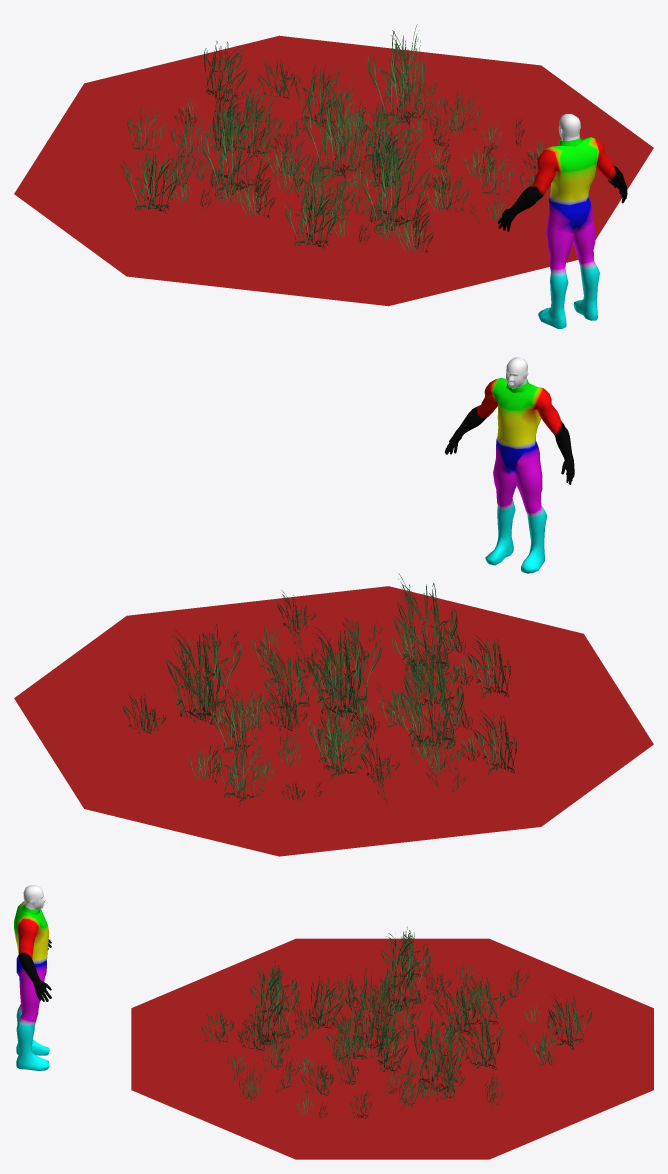
Rendered from gras-long.dae.
The picture shows the model from 3 angles, top to bottom: view 1: azimuth 30°, elevation 25°; view 2: azimuth 150°, elevation 25°; view 3: azimuth 270°, elevation 25°; orthographic projection. The views are drawn at different scales.
Parts seen in each view (by area): view 1: shape, gras_long, Playermodel; view 2: shape, gras_long, Playermodel; view 3: shape, gras_long, Playermodel.
Boxes of the visible parts, <box> form: shape: <box>14,35,653,306</box>; gras_long: <box>120,24,550,253</box>; Playermodel: <box>497,114,627,328</box>; shape: <box>14,586,653,856</box>; gras_long: <box>122,573,516,806</box>; Playermodel: <box>445,357,574,573</box>; shape: <box>131,938,653,1159</box>; gras_long: <box>201,926,592,1121</box>; Playermodel: <box>14,885,51,1070</box>.
Size of what is drawn, in the model's own units: 500 by 612 by 191.
